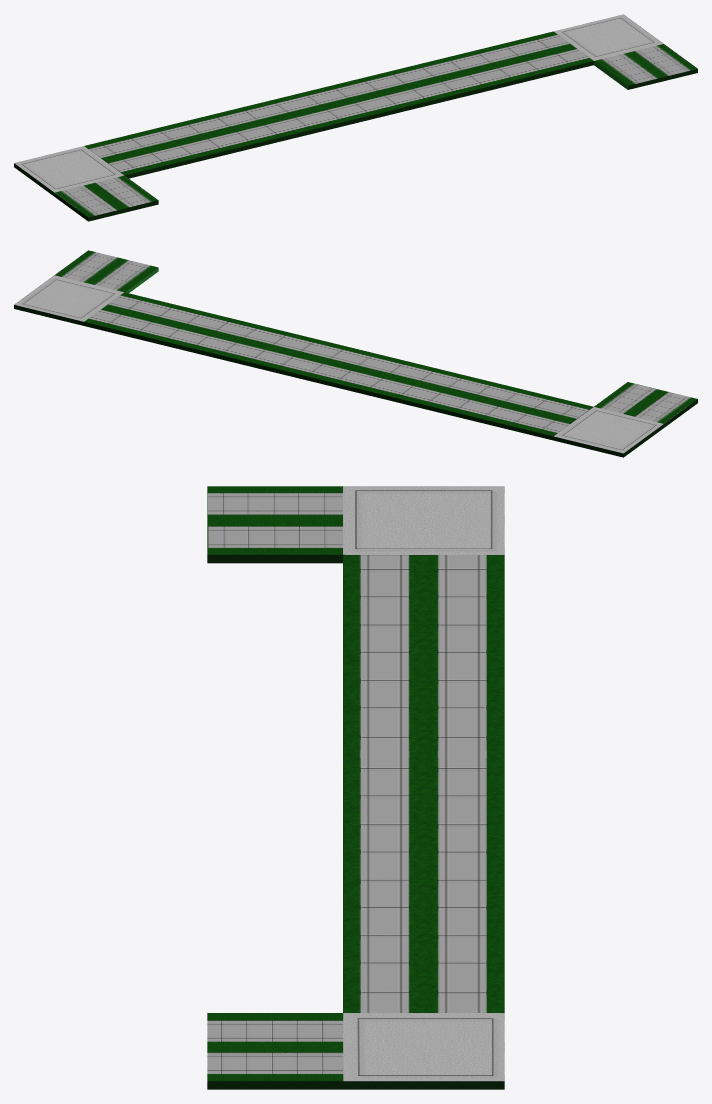
Rendered from Side Walk V2 building side.fbx.
3 views of the same model, one above another, from view 1: azimuth 30°, elevation 25°; view 2: azimuth 150°, elevation 25°; view 3: azimuth 270°, elevation 25° (orthographic). The views are drawn at different scales.
Visible parts, largest first — view 1: pCube401; view 2: pCube401; view 3: pCube401.
Boxes of the visible parts, <box> form: pCube401: <box>14,14,697,221</box>; pCube401: <box>14,250,697,457</box>; pCube401: <box>207,486,504,1089</box>.
Bounding box in the file's own units: 8820 × 57.18 × 1865.
Materials: 2 (1 with a texture image).
